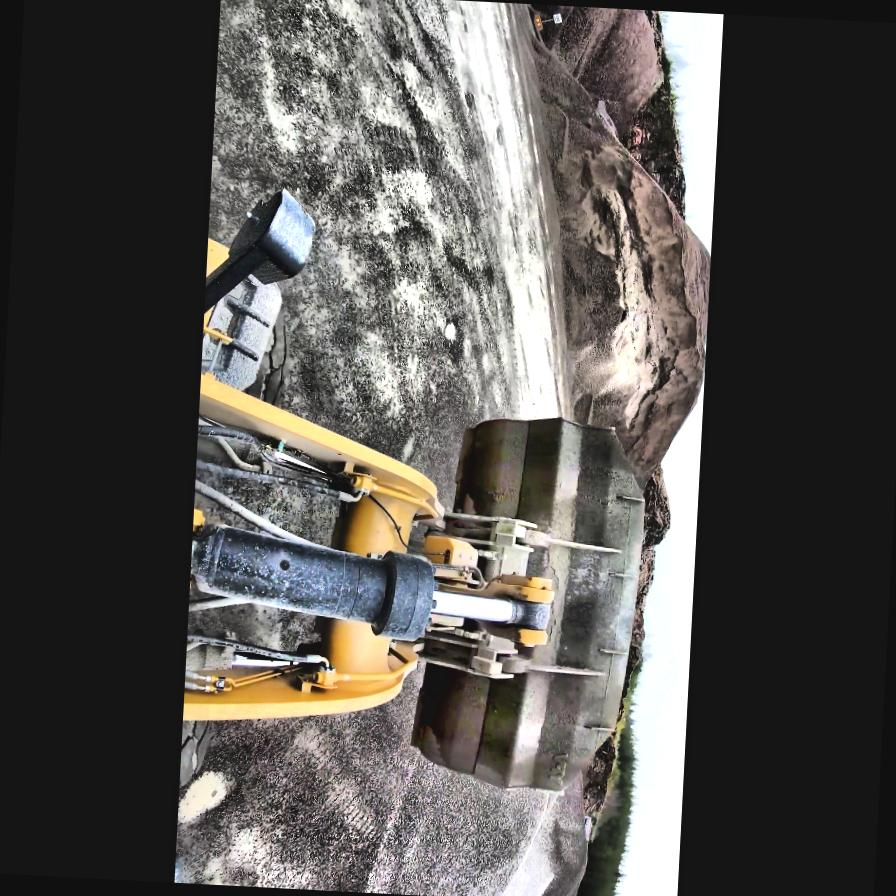anchor: (484, 572, 554, 646)
pile of gravel: (536, 130, 716, 448), (333, 765, 593, 896), (581, 466, 671, 824), (514, 4, 666, 134)
